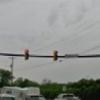traffic lights: (24, 49, 31, 62), (52, 50, 59, 62)
